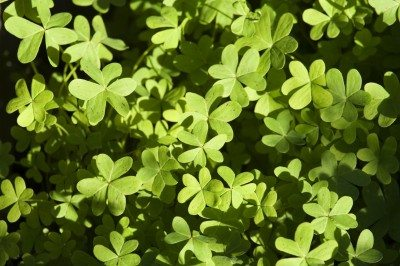oxalis: (13, 10, 400, 258)
